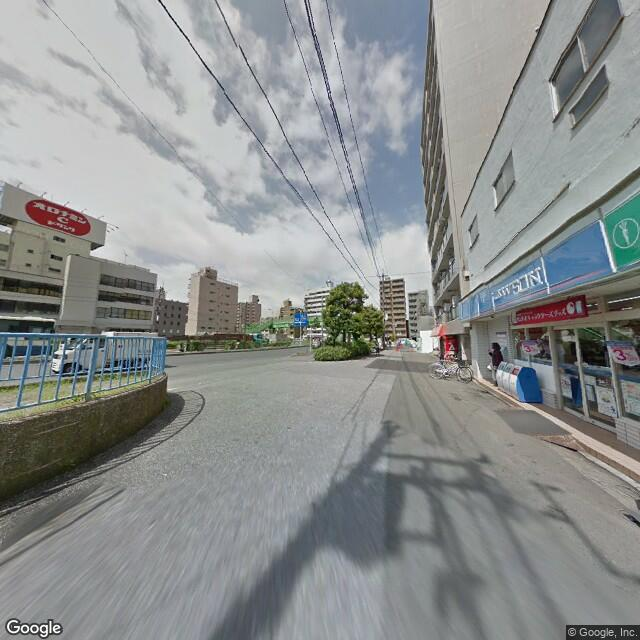lawson: (461, 186, 637, 325)
